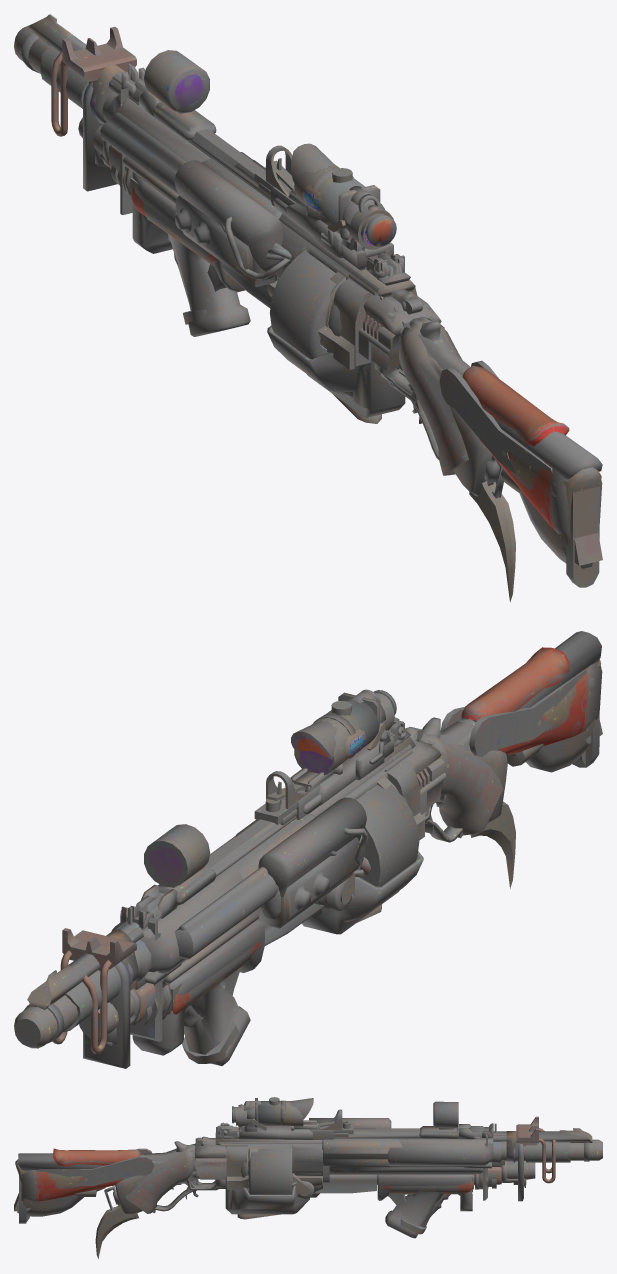
The model's file is gestalt.obj.
The picture shows the model from 3 angles, top to bottom: view 1: azimuth 30°, elevation 25°; view 2: azimuth 150°, elevation 25°; view 3: azimuth 270°, elevation 25°; orthographic projection. The views are drawn at different scales.
Parts seen in each view (by area): view 1: gestalt_weap_combat_shotgun_GestaltSkeletalMesh; view 2: gestalt_weap_combat_shotgun_GestaltSkeletalMesh; view 3: gestalt_weap_combat_shotgun_GestaltSkeletalMesh.
Boxes of the visible parts, x1,y1,x2,y2 form: gestalt_weap_combat_shotgun_GestaltSkeletalMesh: (14, 14, 602, 602); gestalt_weap_combat_shotgun_GestaltSkeletalMesh: (14, 631, 602, 1068); gestalt_weap_combat_shotgun_GestaltSkeletalMesh: (14, 1097, 602, 1258).
Size of the model in its own units: 15.95 by 37 by 123.
